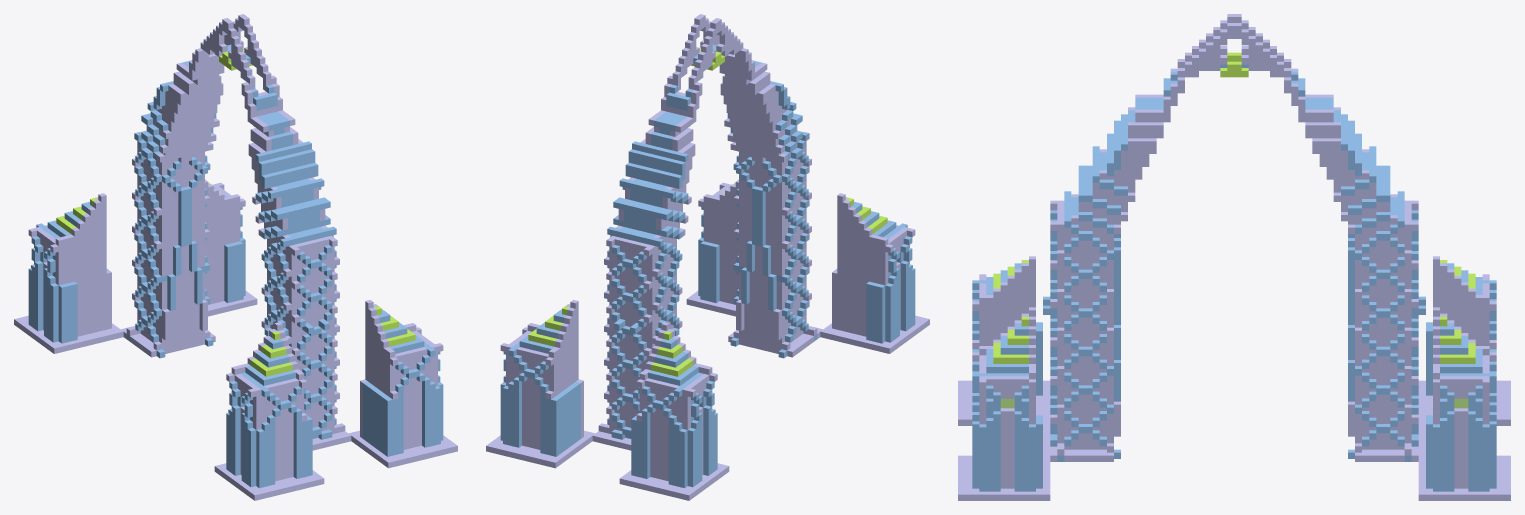
The model's file is gate.FBX.
3 views of the same model, side by side, from view 1: azimuth 30°, elevation 25°; view 2: azimuth 150°, elevation 25°; view 3: azimuth 270°, elevation 25° (orthographic). The views are drawn at different scales.
Parts seen in each view (by area): view 1: untitled; view 2: untitled; view 3: untitled.
Part boxes in pixels (x1,y1,x2,y2): untitled: (14,14,457,500); untitled: (486,14,929,500); untitled: (958,14,1510,500).
Size of the model in its own units: 38 by 66 by 78.
1 material, 1 textured.
